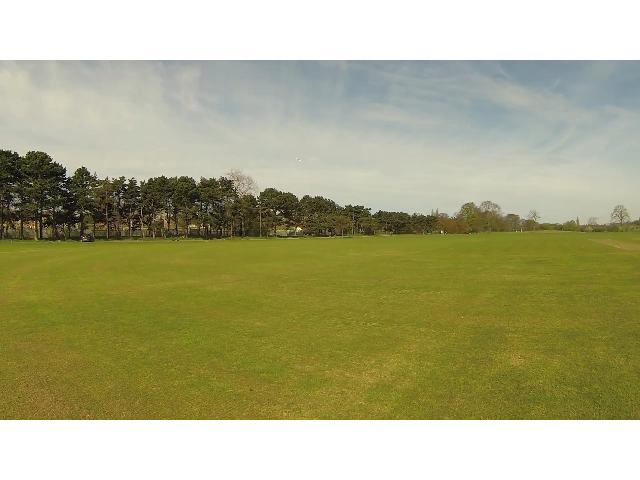Anti-Drone: (294, 155, 304, 166)
